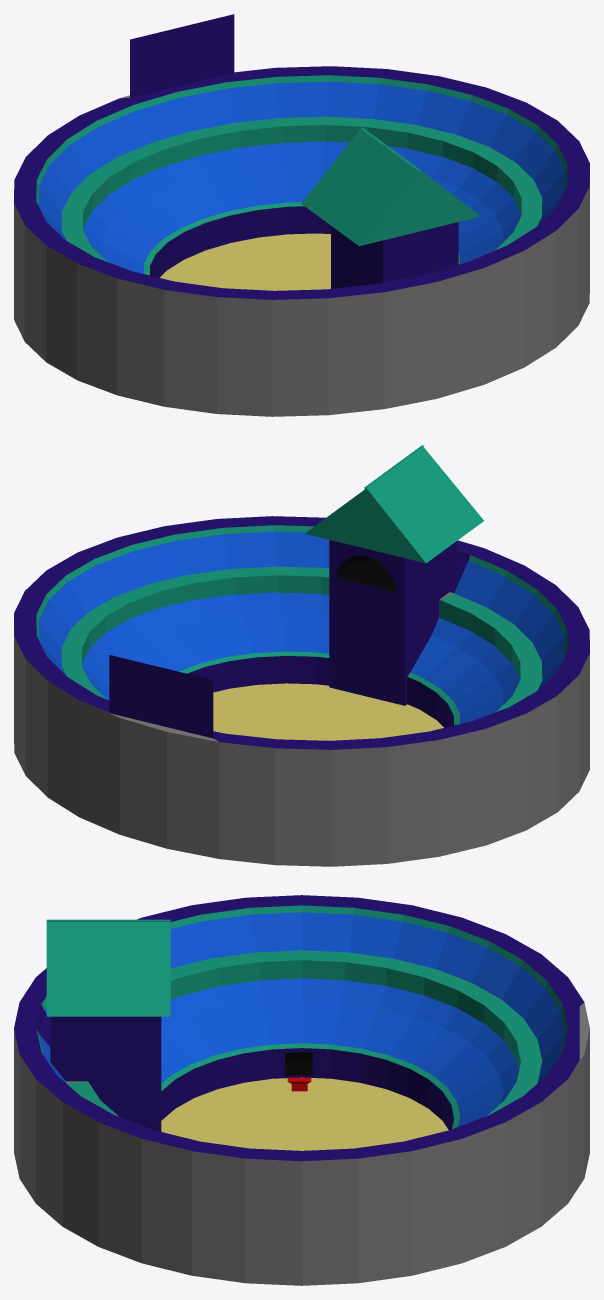
The model's file is Arena.dae.
The picture shows the model from 3 angles, top to bottom: view 1: azimuth 30°, elevation 25°; view 2: azimuth 150°, elevation 25°; view 3: azimuth 270°, elevation 25°; orthographic projection. The views are drawn at different scales.
Visible parts, largest first — view 1: Cylinder; view 2: Cylinder; view 3: Cylinder.
Part boxes in pixels (x1=…): Cylinder: x1=14, y1=14, x2=589, y2=416; Cylinder: x1=14, y1=445, x2=589, y2=866; Cylinder: x1=14, y1=895, x2=589, y2=1285.
Bounding box in the file's own units: 47.17 × 43.15 × 19.14.
